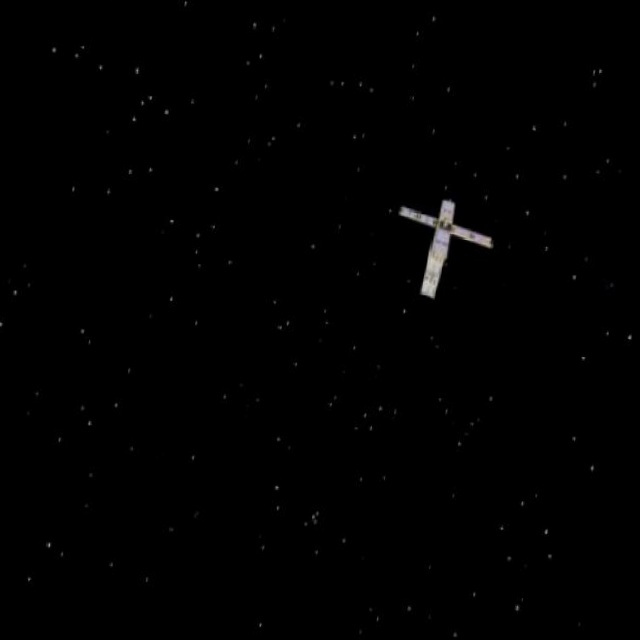medium_debris: (364, 186, 511, 307)
